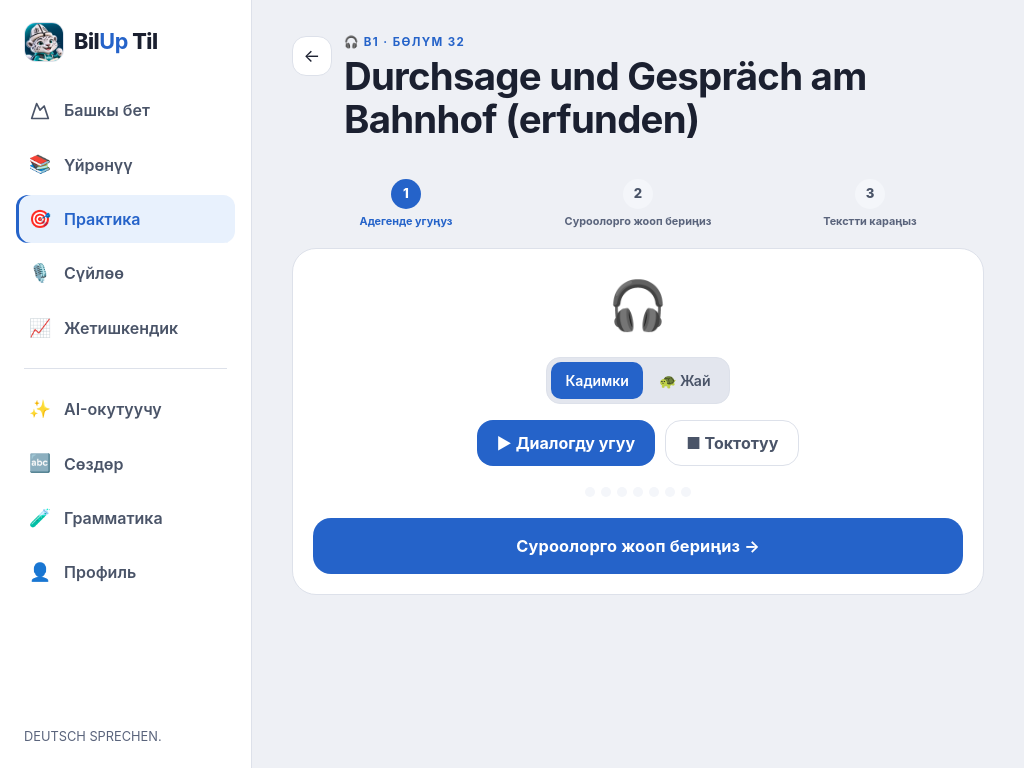
Test case: reading and listening flows › ky: the listening shows the transcript only through the existing flow and offers the questions
Click the button "Суроолорго жооп бериңиз →" at (638, 546), box [313,518,963,574]
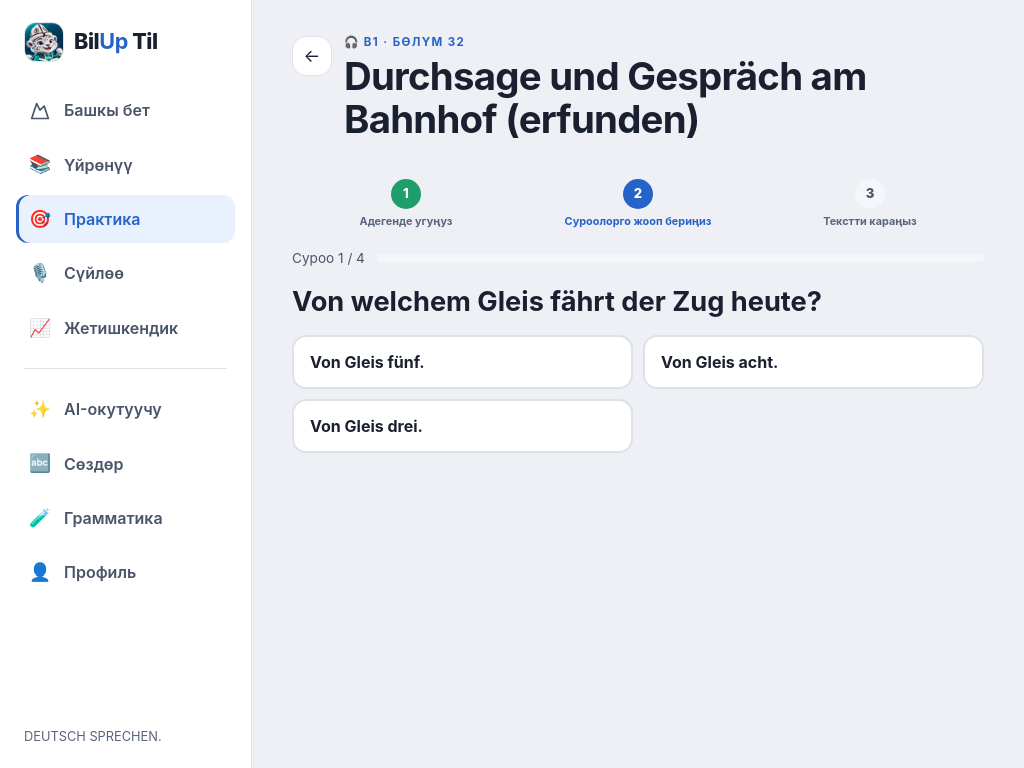
Expected: the text "Von welchem Gleis fährt der Zug heute?" is shown, [292,284,822,321]
